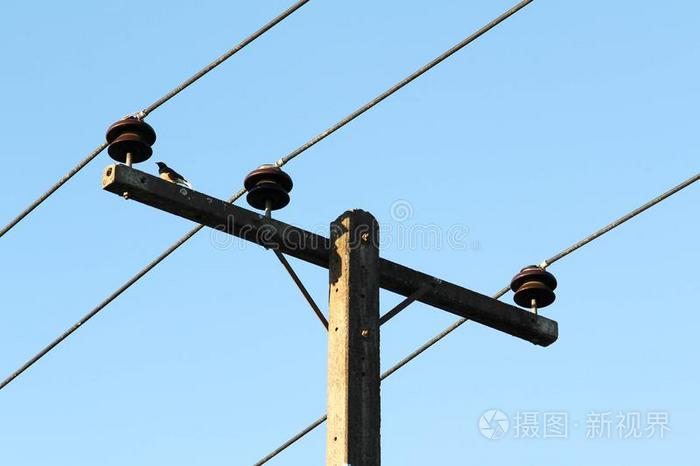insulator: (105, 119, 159, 165), (248, 167, 293, 212), (515, 264, 556, 306)
